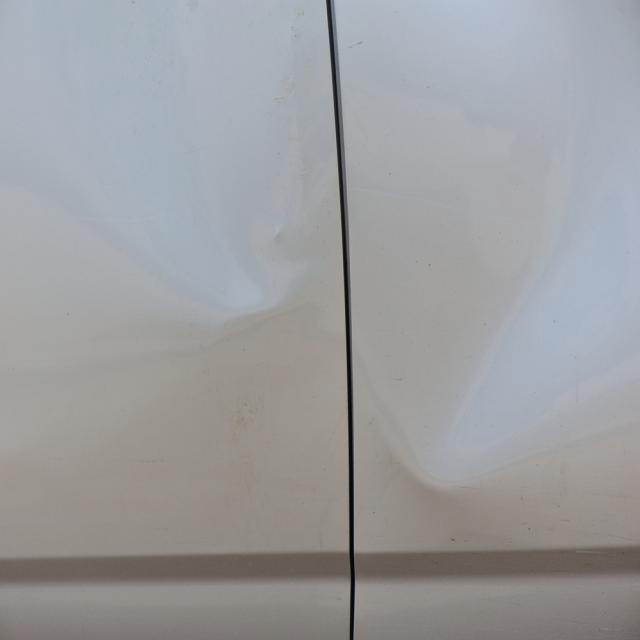Cabossage: (366, 71, 637, 529), (64, 47, 286, 364)
